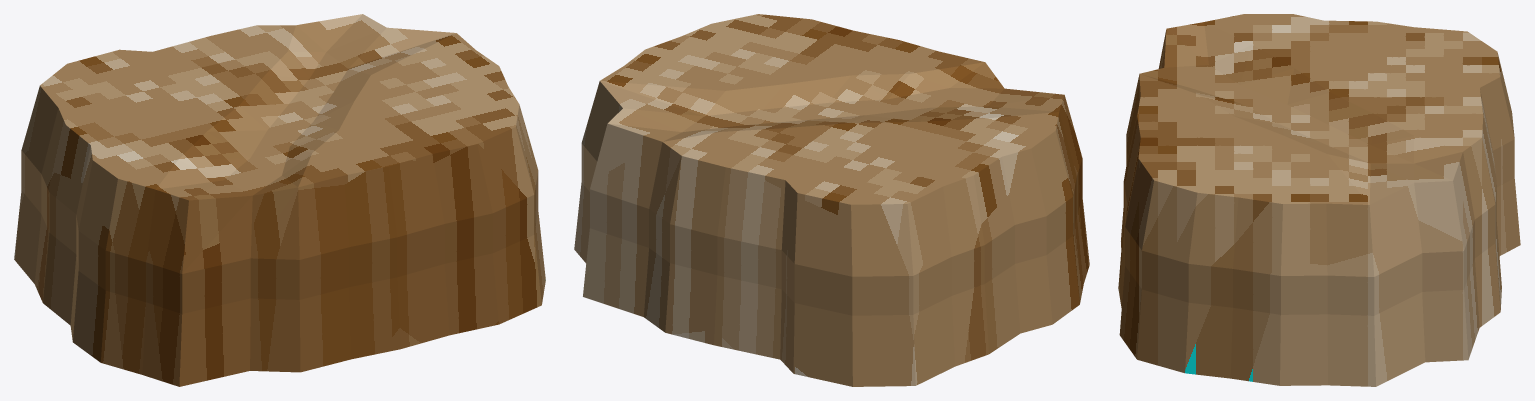
Rendered from rock_341x07.gltf.
3 views of the same model, side by side, from view 1: azimuth 30°, elevation 25°; view 2: azimuth 150°, elevation 25°; view 3: azimuth 270°, elevation 25° (orthographic). The views are drawn at different scales.
Visible parts, largest first — view 1: Rock_341x7; view 2: Rock_341x7; view 3: Rock_341x7.
Part boxes in pixels (bbox=[...]): Rock_341x7: bbox=[14, 14, 545, 386]; Rock_341x7: bbox=[574, 14, 1089, 386]; Rock_341x7: bbox=[1118, 14, 1520, 386].
Size of the model in its own units: 2.14 by 0.807 by 1.72.
1 material, 1 textured.
